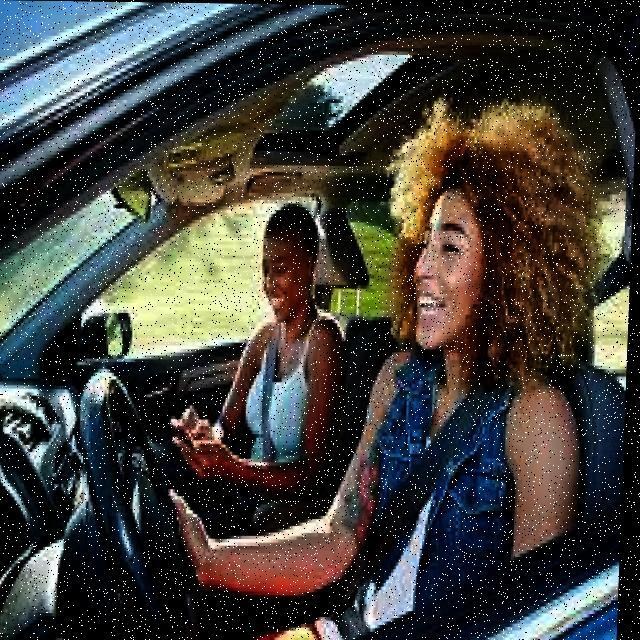seatbelt: (354, 366, 522, 601), (240, 309, 334, 483)
